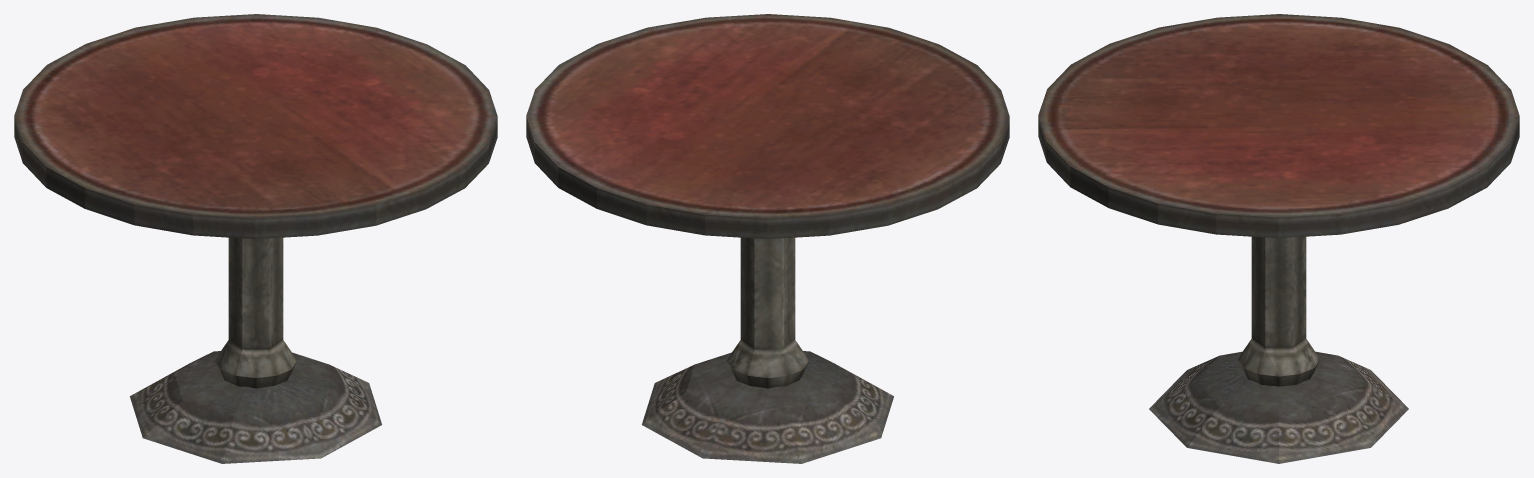
Rendered from bg_lut_lucastle_table02_sm_artree.FBX.
The picture shows the model from 3 angles, left to right: view 1: azimuth 30°, elevation 25°; view 2: azimuth 150°, elevation 25°; view 3: azimuth 270°, elevation 25°; orthographic projection.
Parts seen in each view (by area): view 1: bg_lut_lucastle_table02_sm_artree; view 2: bg_lut_lucastle_table02_sm_artree; view 3: bg_lut_lucastle_table02_sm_artree.
Boxes of the visible parts, <box> form: bg_lut_lucastle_table02_sm_artree: <box>14,14,497,463</box>; bg_lut_lucastle_table02_sm_artree: <box>526,14,1009,463</box>; bg_lut_lucastle_table02_sm_artree: <box>1038,14,1519,463</box>.
Size of the model in its own units: 123 by 82.62 by 123.
